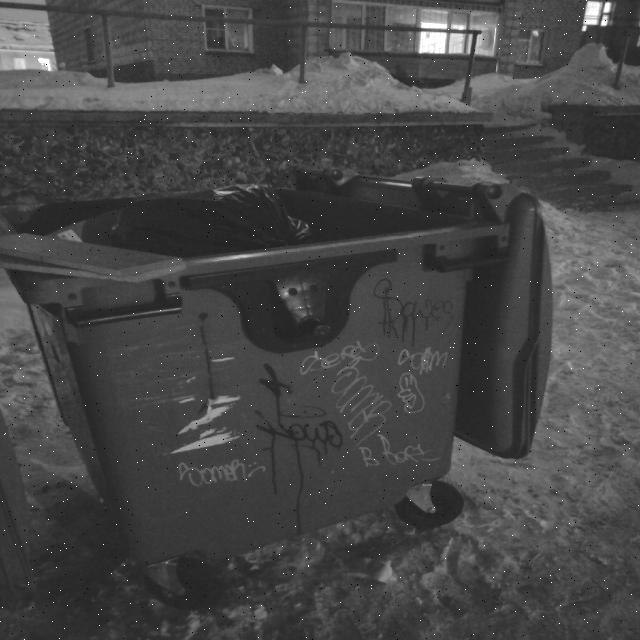Trashcan: (4, 133, 551, 601)
